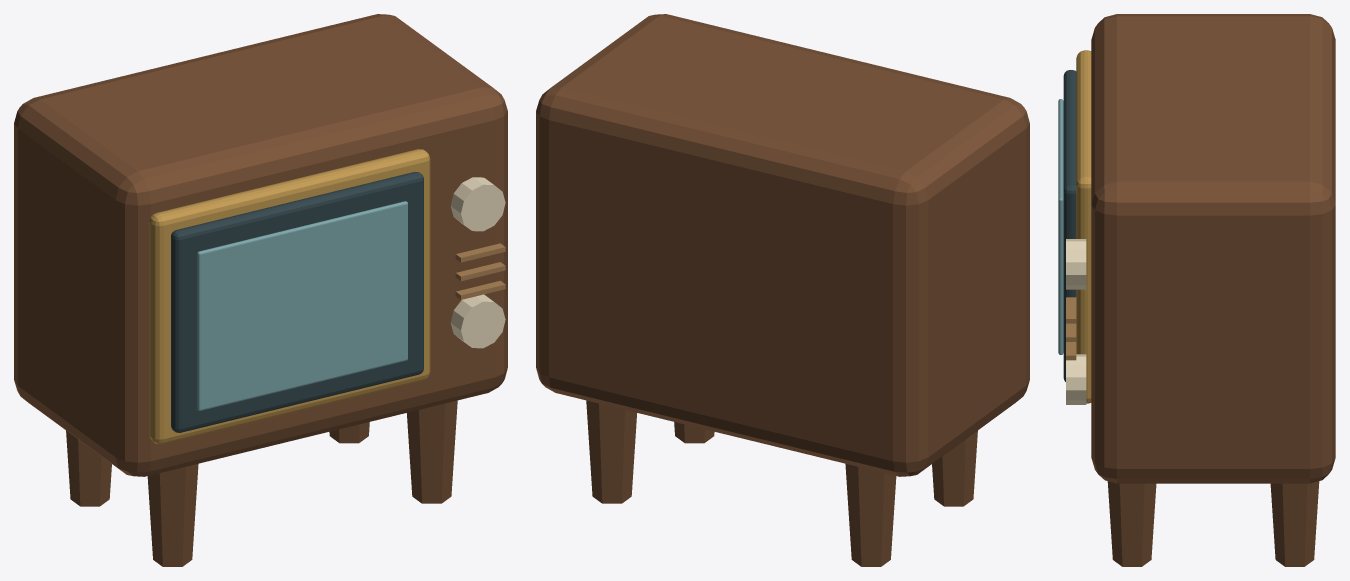
Rendered from SM_CH_Story_Television.fbx.
3 views of the same model, side by side, from view 1: azimuth 30°, elevation 25°; view 2: azimuth 150°, elevation 25°; view 3: azimuth 270°, elevation 25° (orthographic).
Parts seen in each view (by area): view 1: SM_CH_Story_Television; view 2: SM_CH_Story_Television; view 3: SM_CH_Story_Television.
Part boxes in pixels (box(x1,y1,x2,y2)): SM_CH_Story_Television: box(14, 14, 507, 566); SM_CH_Story_Television: box(536, 14, 1029, 566); SM_CH_Story_Television: box(1058, 14, 1335, 566).
Size of the model in its own units: 8700 by 5450 by 8650.
